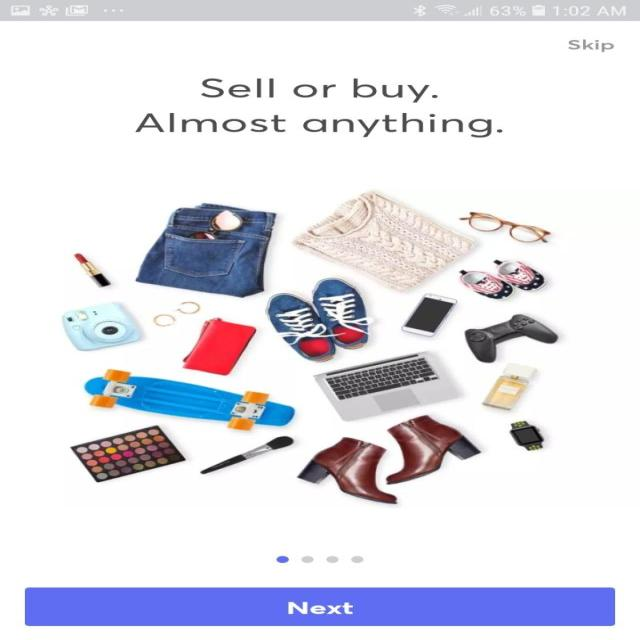Image: (61, 188, 560, 505)
Text: (134, 112, 502, 138), (200, 78, 438, 103), (566, 39, 614, 52)
TextButton: (24, 586, 614, 626)
